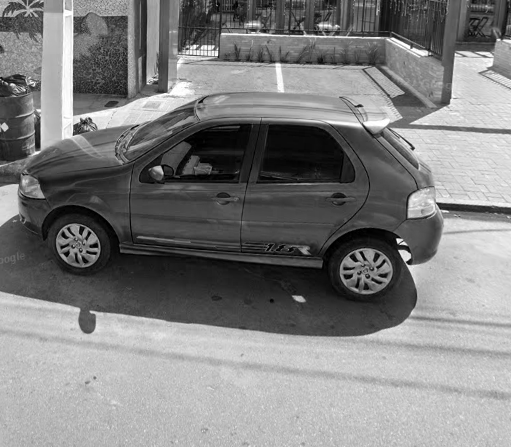car: (16, 89, 446, 303)
